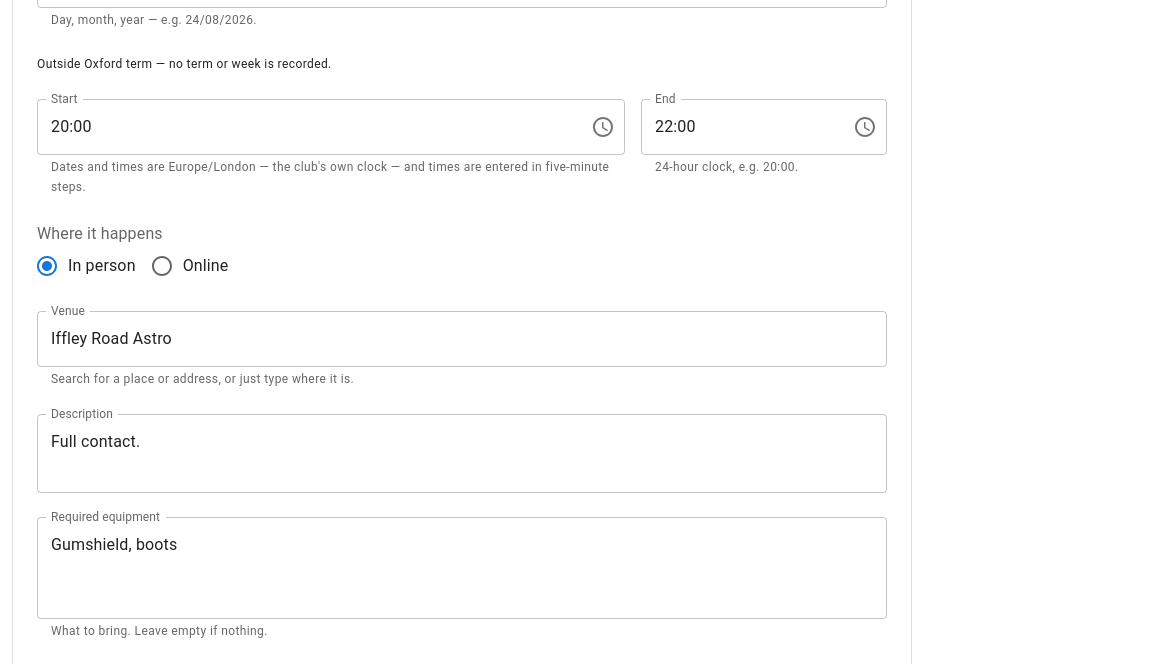
Test: the amendment editor › keeps the typed values in the submission while the review is showing
This screenshot has width=1164, height=664.
(page scrolled)
Replace the text in the dropdown labelled "Venue" with "University Parks" at (447, 339), box [46,320,848,358]
(page scrolled)
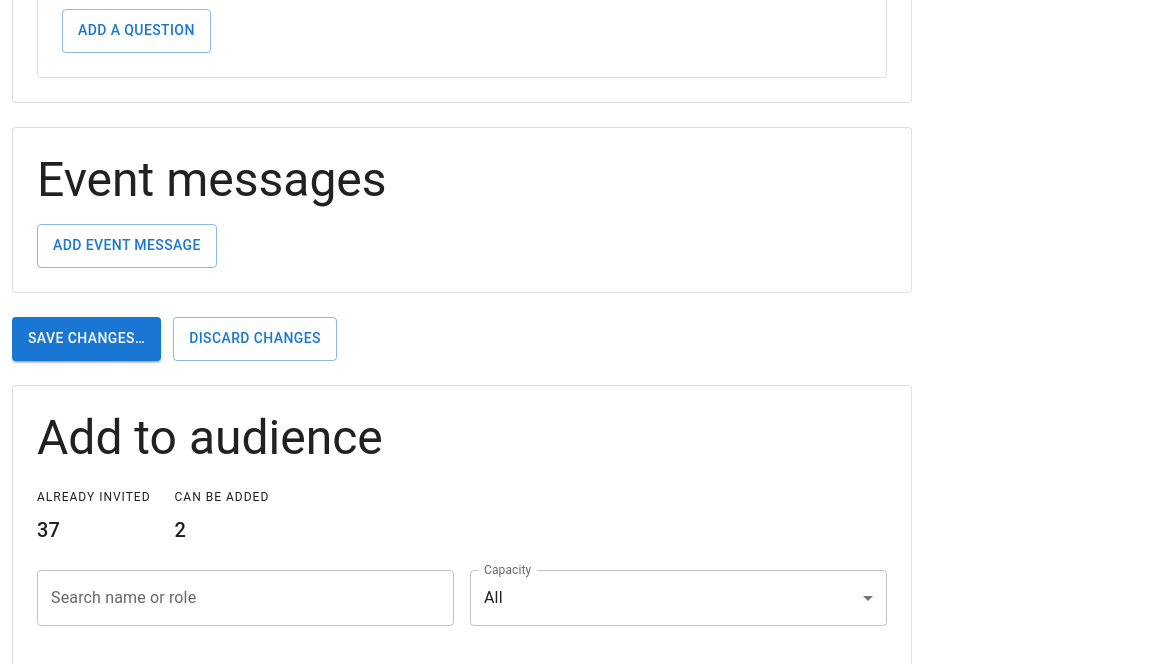
Click the button with test id "continue-to-review".
click(87, 339)  # box [12,317,161,361]
(page scrolled)
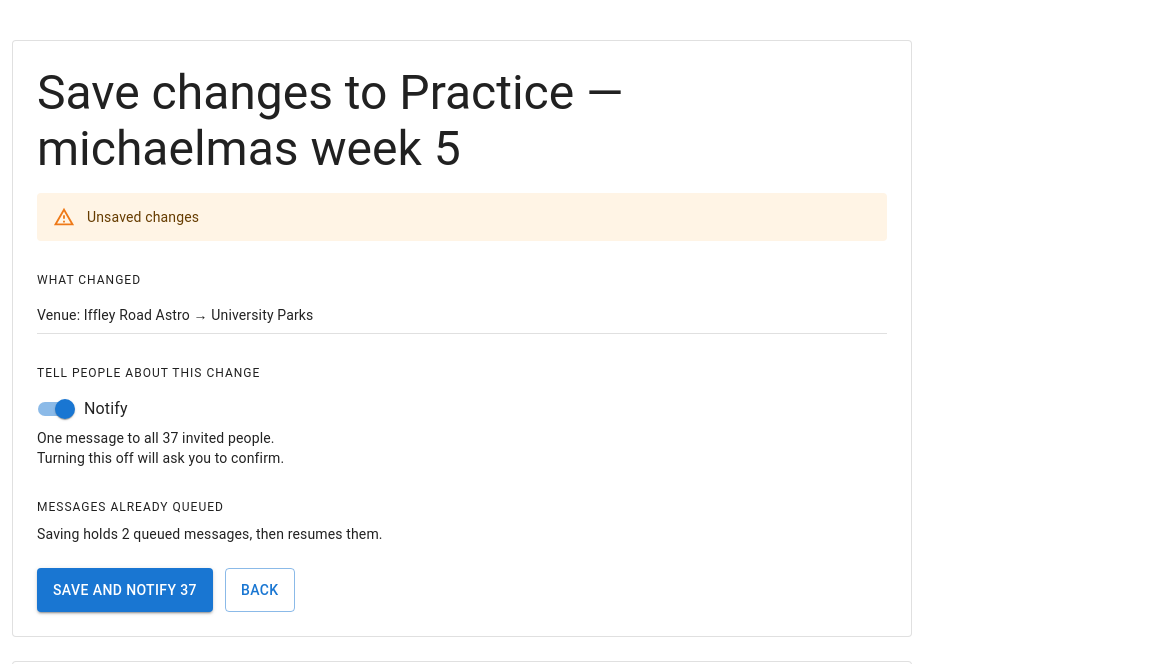
Now the element with test id "section-amend-review-step" is shown
